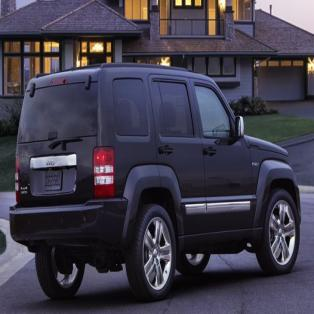Auto: (8, 60, 302, 306)
